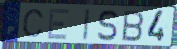4: (146, 9, 168, 45)
B: (121, 10, 146, 43)
C: (22, 8, 46, 39)
E: (46, 8, 71, 41)
I: (82, 8, 92, 42)
S: (96, 9, 120, 43)
